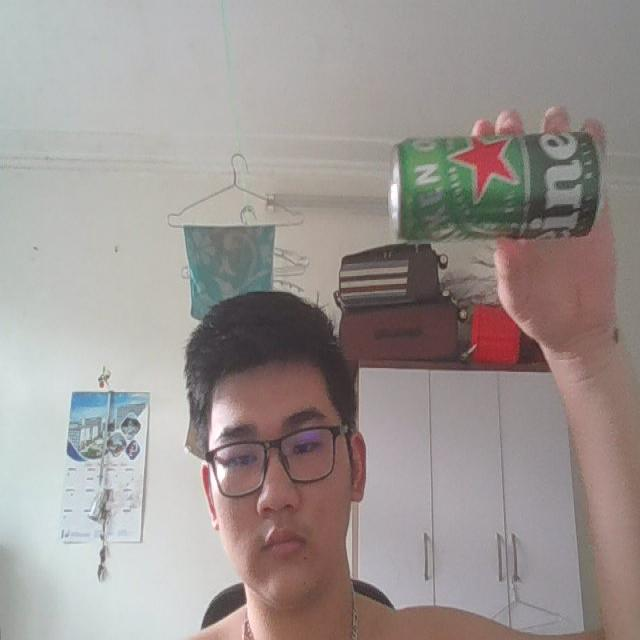Heineken: (389, 129, 600, 243)
